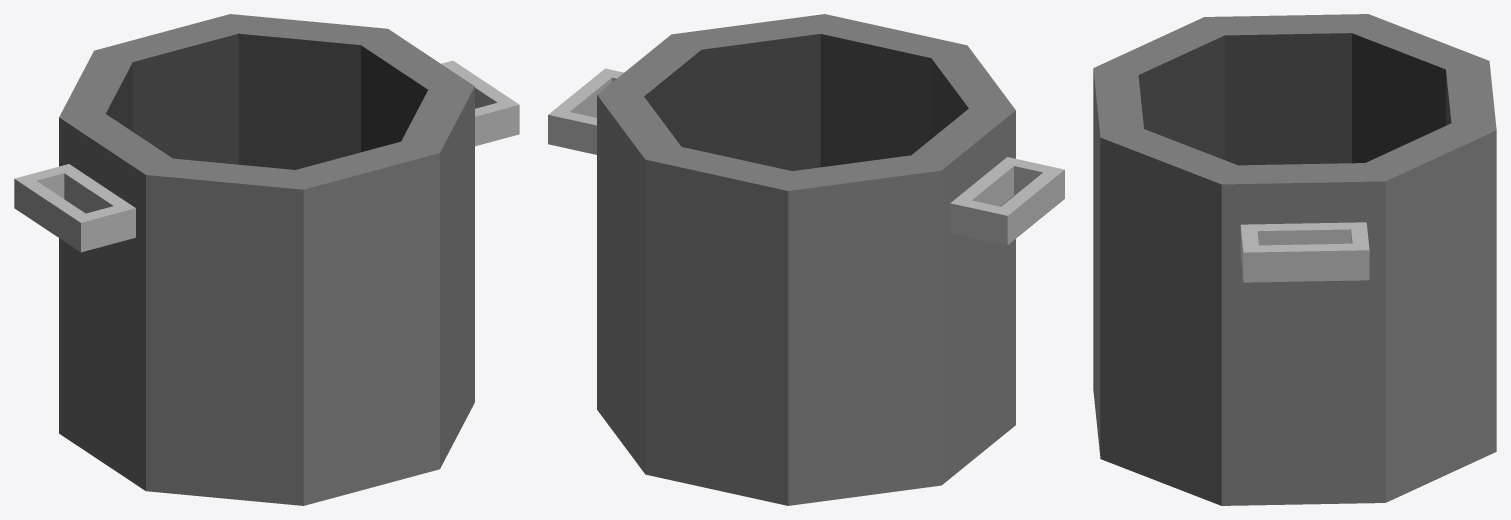
File: StovePot-Empty.fbx
The picture shows the model from 3 angles, left to right: view 1: azimuth 30°, elevation 25°; view 2: azimuth 150°, elevation 25°; view 3: azimuth 270°, elevation 25°; orthographic projection. The views are drawn at different scales.
Parts seen in each view (by area): view 1: StovePot-Empty; view 2: StovePot-Empty; view 3: StovePot-Empty.
Boxes of the visible parts, left/top/right/bottom form: StovePot-Empty: left=14, top=14, right=519, bottom=505; StovePot-Empty: left=548, top=14, right=1064, bottom=505; StovePot-Empty: left=1093, top=14, right=1496, bottom=505.
Size of the model in its own units: 25.21 by 16.75 by 19.04.
